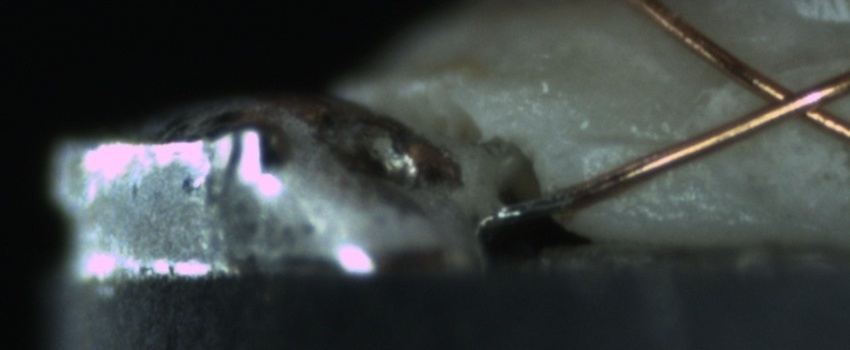CL: (735, 62, 848, 135)
DL: (571, 111, 693, 170)
TS: (487, 188, 575, 223)
